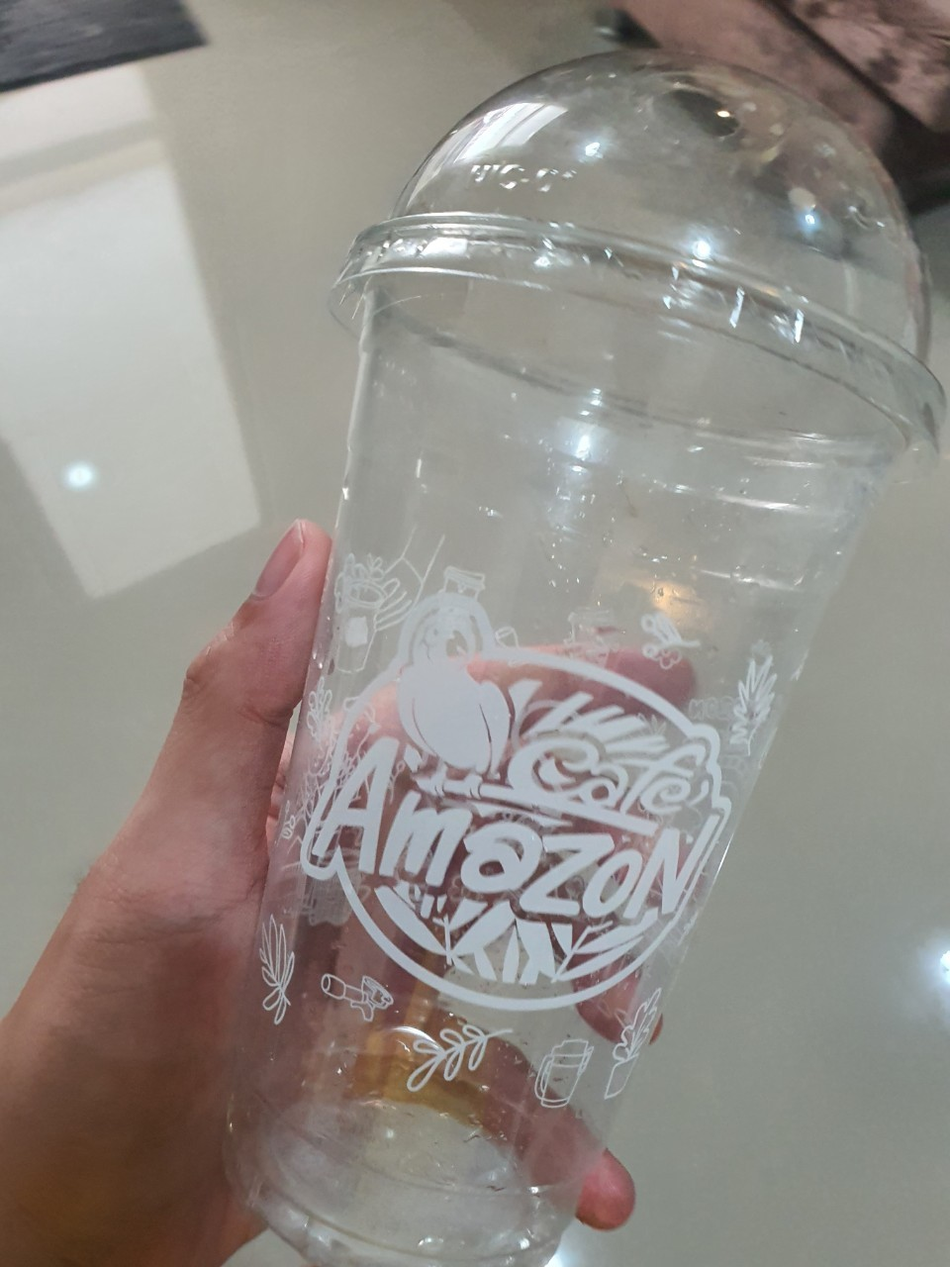plastic: (198, 49, 946, 1267)
